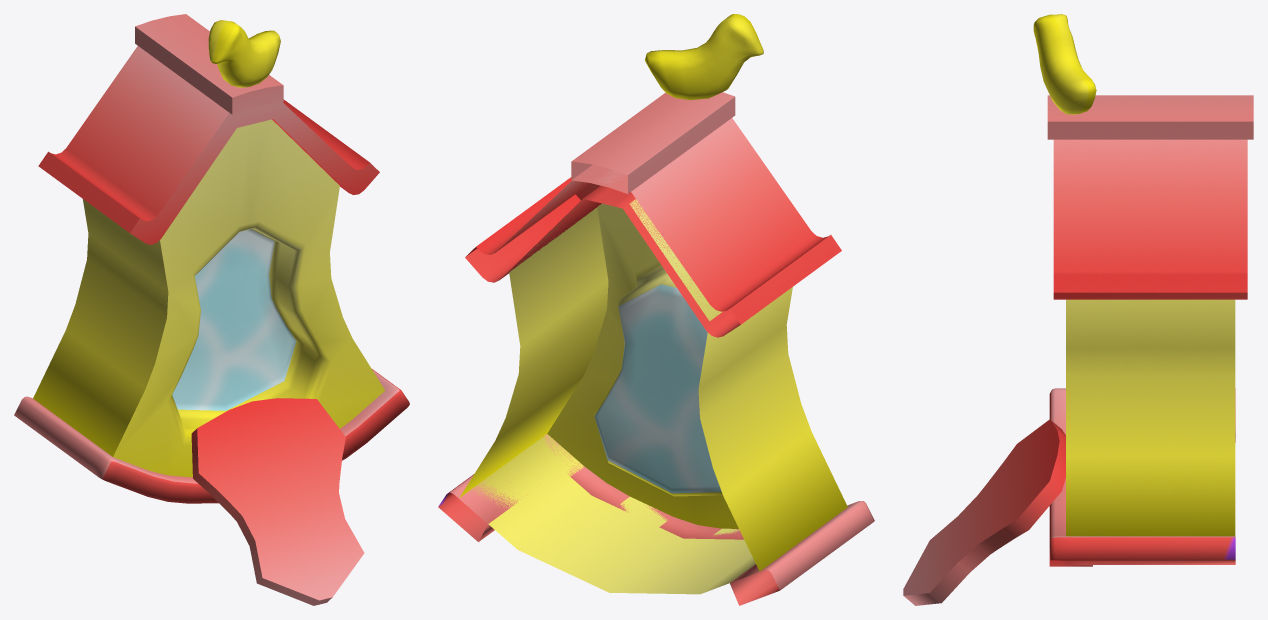
Rendered from Mailbox_E_yellow.fbx.
The picture shows the model from 3 angles, left to right: view 1: azimuth 30°, elevation 25°; view 2: azimuth 150°, elevation 25°; view 3: azimuth 270°, elevation 25°; orthographic projection. The views are drawn at different scales.
Parts seen in each view (by area): view 1: MailboxE_yellow; view 2: MailboxE_yellow; view 3: MailboxE_yellow.
Part boxes in pixels (x1,y1,x2,y2): MailboxE_yellow: [14, 14, 409, 605]; MailboxE_yellow: [438, 14, 874, 605]; MailboxE_yellow: [903, 14, 1253, 605].
Size of the model in its own units: 1.31 by 1.21 by 2.19.
